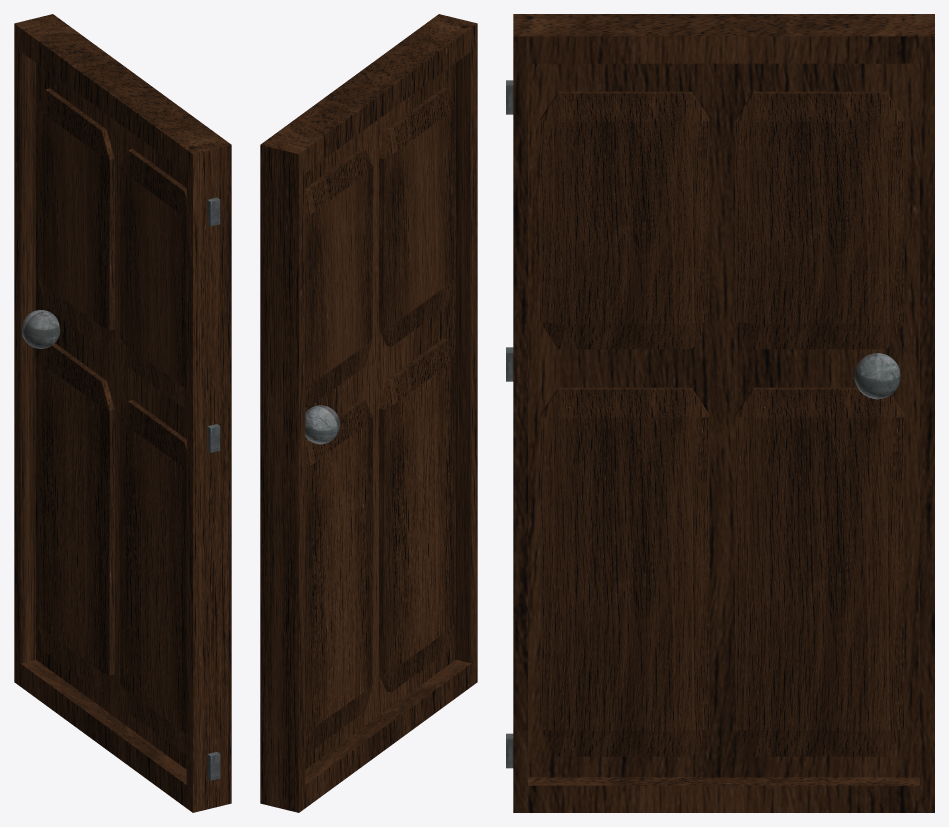
File: Coffee door.glb
The picture shows the model from 3 angles, left to right: view 1: azimuth 30°, elevation 25°; view 2: azimuth 150°, elevation 25°; view 3: azimuth 270°, elevation 25°; orthographic projection. The views are drawn at different scales.
Visible parts, largest first — view 1: DOOR, SHEET METAL, VISAGRA.001; view 2: DOOR, SHEET METAL; view 3: DOOR, SHEET METAL, VISAGRA.001.
Boxes of the visible parts, x1=… form: DOOR: x1=14, y1=14, x2=231, y2=812; SHEET METAL: x1=21, y1=310, x2=60, y2=348; VISAGRA.001: x1=207, y1=197, x2=220, y2=780; DOOR: x1=260, y1=14, x2=477, y2=812; SHEET METAL: x1=305, y1=405, x2=340, y2=444; DOOR: x1=513, y1=14, x2=934, y2=812; SHEET METAL: x1=854, y1=353, x2=900, y2=399; VISAGRA.001: x1=506, y1=80, x2=513, y2=768.
Bounding box in the file's own units: 0.1749 × 1.6 × 0.8.
Materials: 4 (4 with a texture image).
